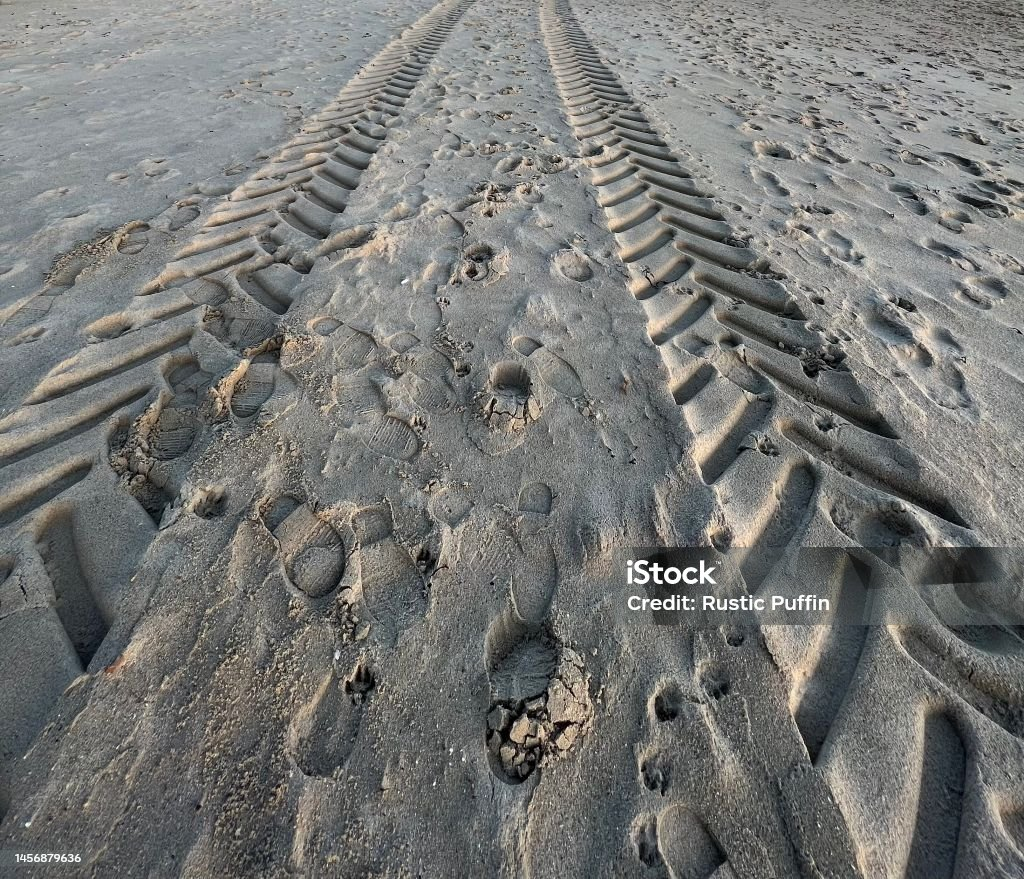human_foot_print: (490, 600, 545, 802), (308, 668, 411, 774), (265, 488, 342, 583), (665, 785, 736, 879), (858, 303, 931, 381), (455, 235, 508, 315), (555, 235, 608, 315), (488, 358, 549, 427), (800, 115, 847, 188), (933, 233, 988, 290), (753, 150, 793, 222), (480, 165, 515, 231), (883, 170, 915, 227)
vehicle_track: (0, 0, 471, 814), (541, 0, 979, 592), (541, 0, 966, 544)
